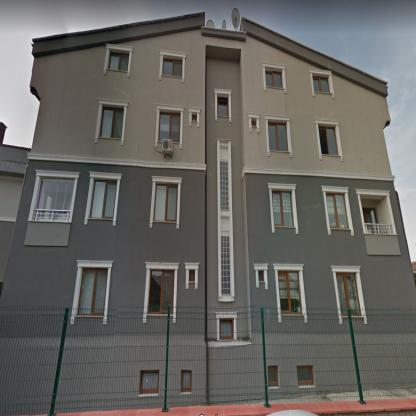window: (33, 177, 75, 222), (77, 267, 108, 316), (88, 177, 117, 220), (148, 269, 174, 315), (336, 272, 361, 316), (278, 271, 302, 314), (154, 183, 178, 221), (272, 190, 294, 227), (99, 107, 124, 139), (326, 192, 348, 228), (158, 112, 180, 143), (268, 122, 288, 152), (319, 126, 338, 154), (221, 235, 230, 294), (107, 51, 129, 72), (220, 160, 229, 211), (162, 57, 183, 77), (140, 370, 158, 393), (219, 318, 234, 340), (265, 70, 283, 88), (297, 366, 313, 386), (313, 76, 330, 92), (181, 370, 192, 392), (362, 208, 378, 223), (217, 96, 228, 116), (268, 366, 278, 386), (258, 270, 264, 282), (189, 270, 195, 282), (192, 113, 197, 121), (252, 120, 256, 126)
